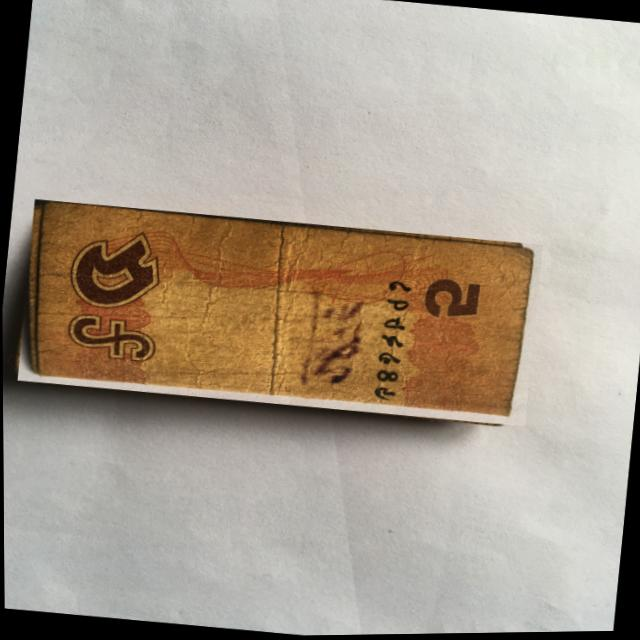Taka: (15, 193, 543, 433)
